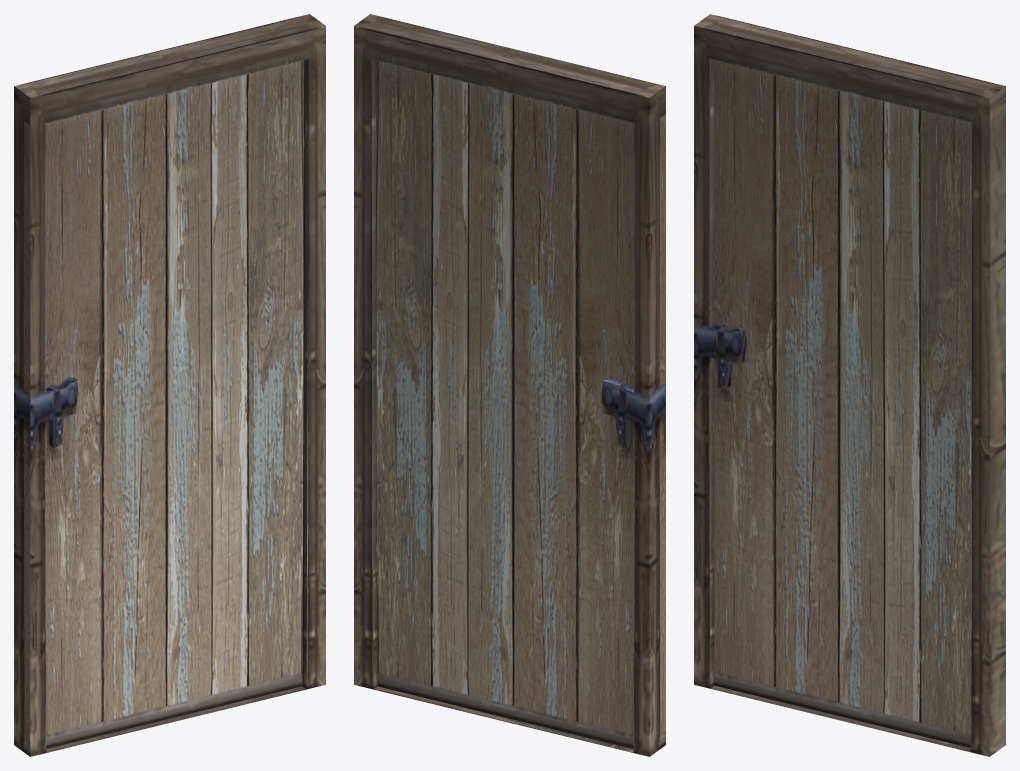
Rendered from doors5.dae.
3 renders of one model, left to right at view 1: azimuth 30°, elevation 25°; view 2: azimuth 150°, elevation 25°; view 3: azimuth 330°, elevation 25°, orthographic.
Parts seen in each view (by area): view 1: door_5; view 2: door_5; view 3: door_5.
Boxes of the visible parts, x1,y1,x2,y2 form: door_5: (14,14,325,756); door_5: (354,14,665,756); door_5: (694,14,1005,756).
Size of the model in its own units: 1.11 by 0.1049 by 2.37.
1 material, 1 textured.
